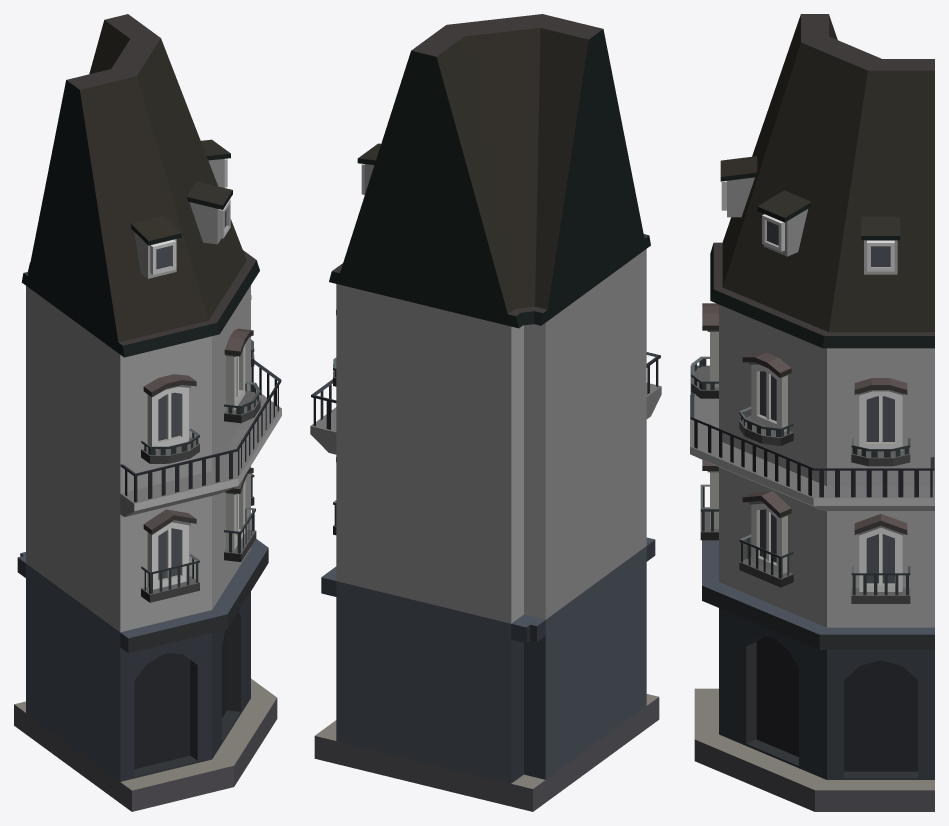
The model's file is TB_CITY_BD_T_RCorner_3_D.FBX.
3 renders of one model, left to right at view 1: azimuth 30°, elevation 25°; view 2: azimuth 150°, elevation 25°; view 3: azimuth 270°, elevation 25°, orthographic. The views are drawn at different scales.
Visible parts, largest first — view 1: TB_CITY_BD_T_RCorner_3_D; view 2: TB_CITY_BD_T_RCorner_3_D; view 3: TB_CITY_BD_T_RCorner_3_D.
Part boxes in pixels (box(x1,y1,x2,y2)): TB_CITY_BD_T_RCorner_3_D: box(14, 14, 281, 811); TB_CITY_BD_T_RCorner_3_D: box(310, 14, 661, 811); TB_CITY_BD_T_RCorner_3_D: box(690, 14, 934, 811).
Bounding box in the file's own units: 8.15 × 25.57 × 8.15.
